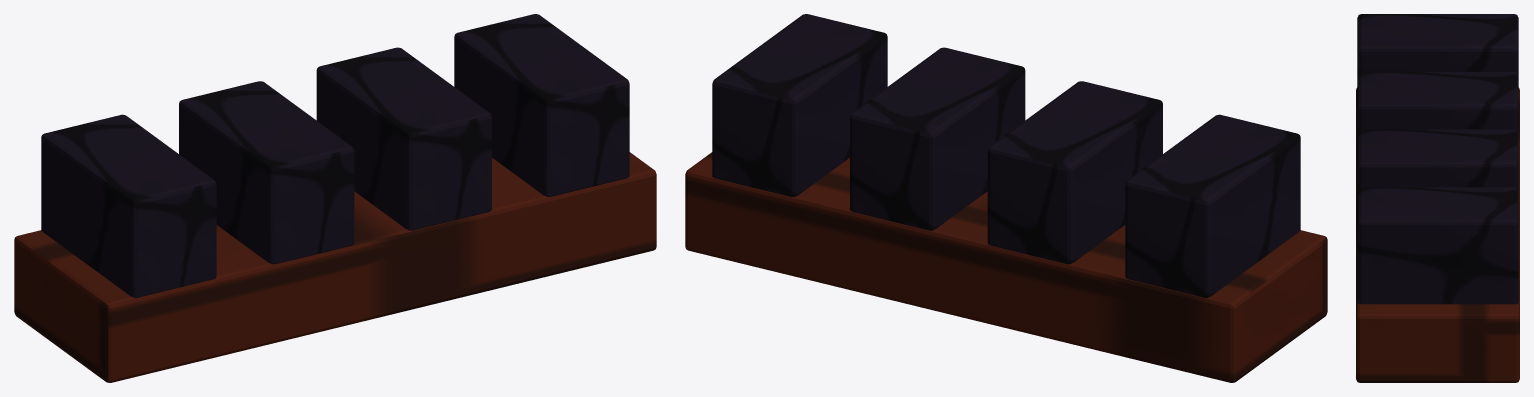
Rendered from SM_FC_Battlement_400.fbx.
3 views of the same model, side by side, from view 1: azimuth 30°, elevation 25°; view 2: azimuth 150°, elevation 25°; view 3: azimuth 270°, elevation 25° (orthographic). The views are drawn at different scales.
Parts seen in each view (by area): view 1: SM_FC_Battlement_400; view 2: SM_FC_Battlement_400; view 3: SM_FC_Battlement_400.
Part boxes in pixels (bbox=[...]): SM_FC_Battlement_400: bbox=[14, 14, 656, 382]; SM_FC_Battlement_400: bbox=[685, 14, 1327, 382]; SM_FC_Battlement_400: bbox=[1356, 14, 1519, 382].
Size of what is drawn, in the model's own units: 4 by 1.23 by 1.2.
